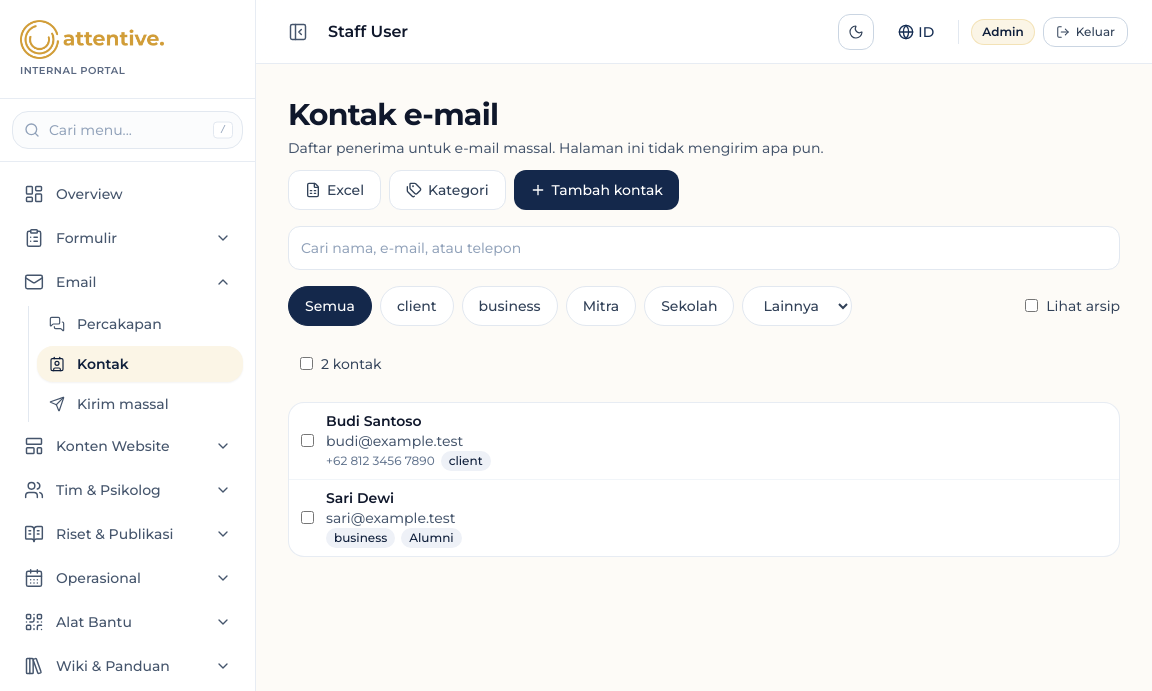
Test case: e-mail contacts page › does not send a bad address or a contact without a category
Click the button "Tambah kontak" at (596,190), box [514,170,679,210]
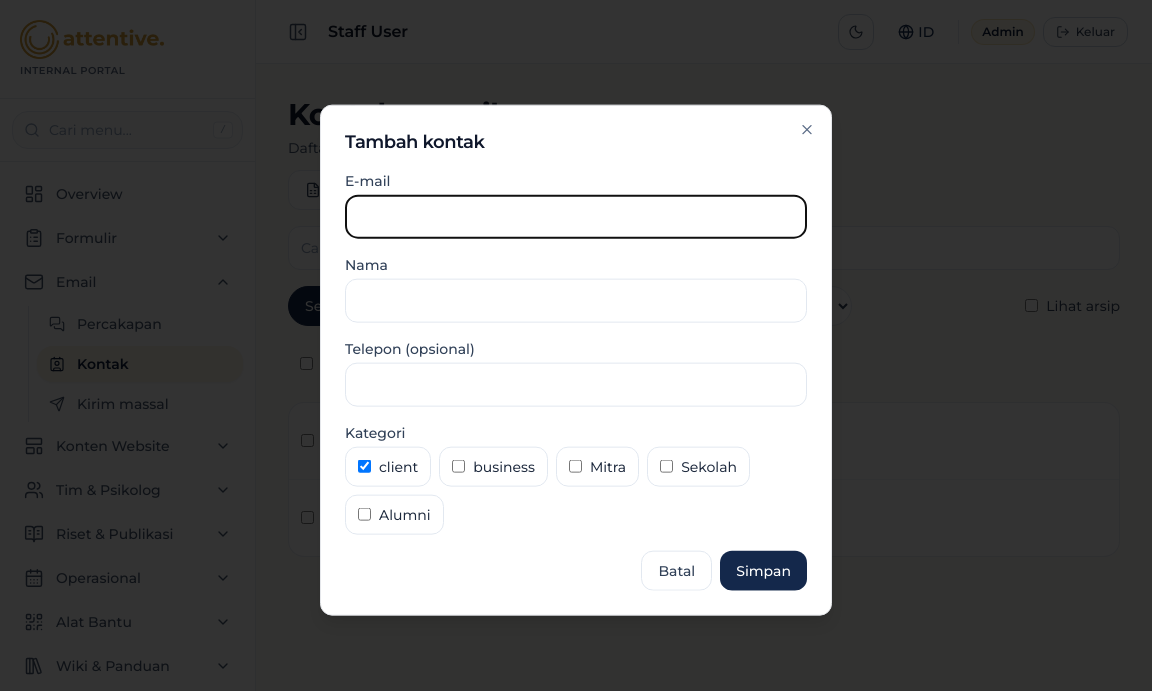
Type "bukan-alamat" into the field labelled "E-mail" at (576,216), box [345,194,807,238]
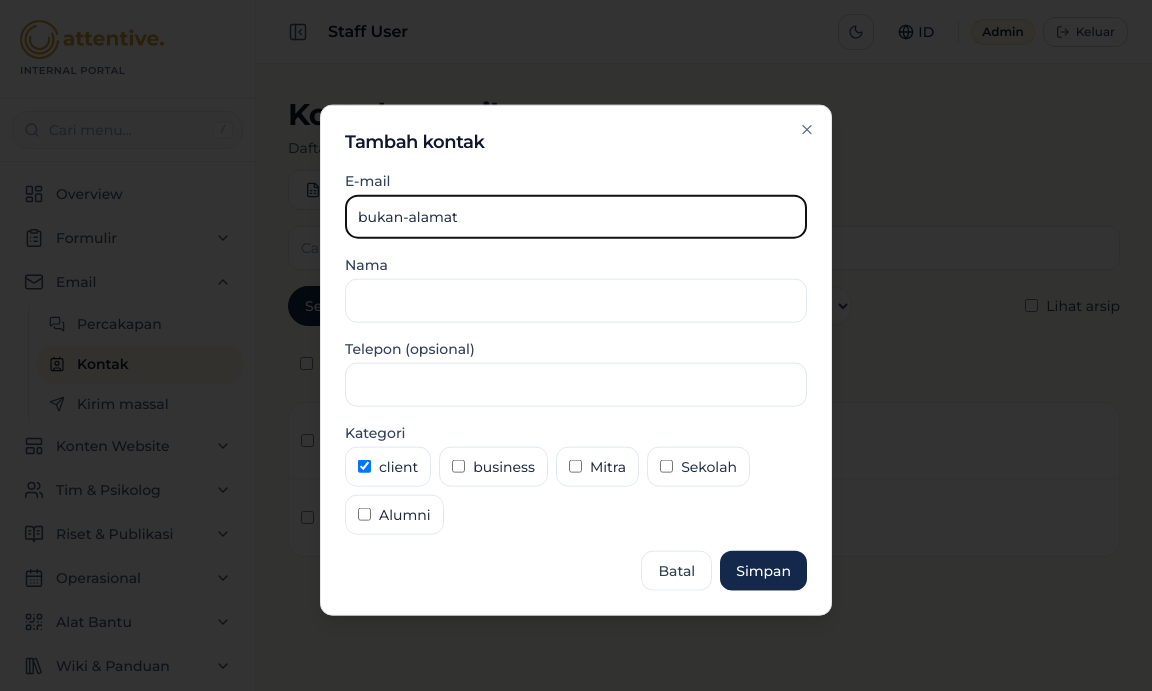
Click the checkbox labelled "client" at (364,466), box [358,460,371,473]
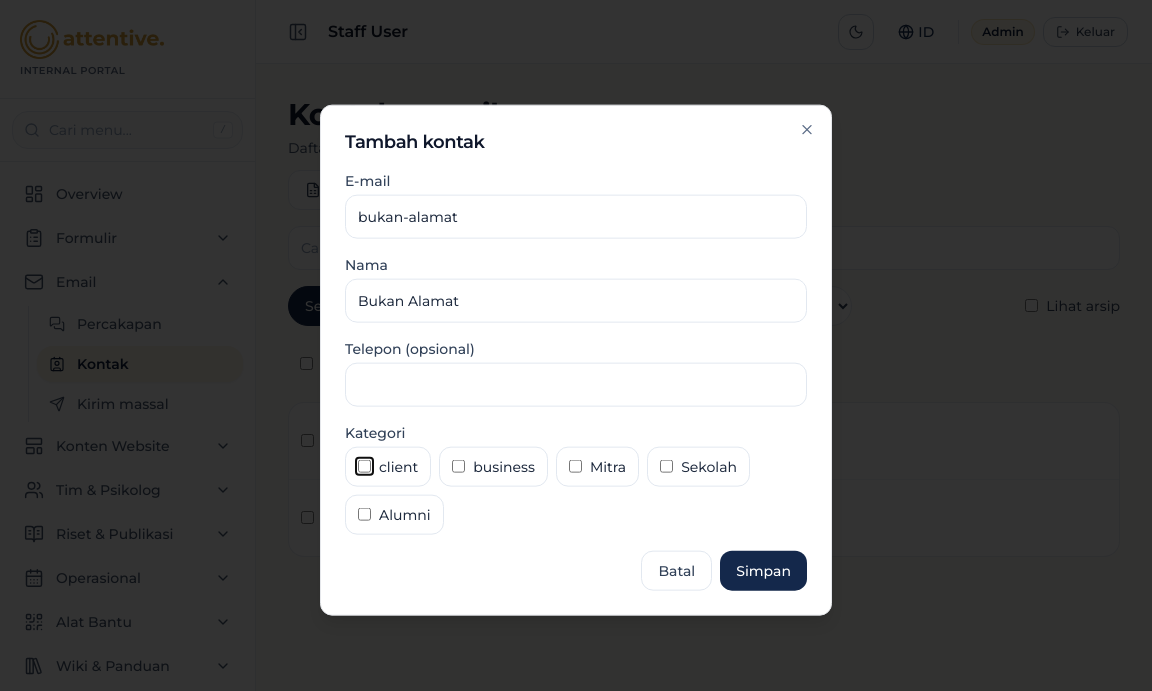
Click the button "Simpan" at (764,570), box [720,550,807,590]
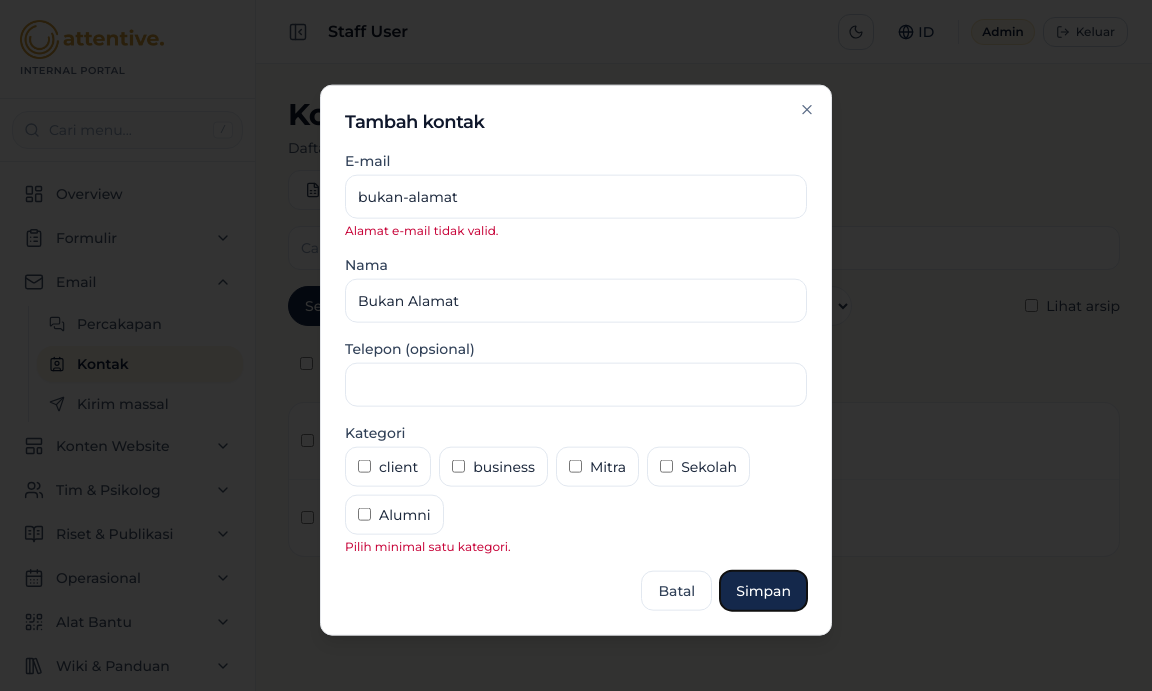
Now the text "Alamat e-mail tidak valid." is shown, box [345,222,498,237]
Now the text "Pilih minimal satu kategori." is shown, box [345,538,511,553]
